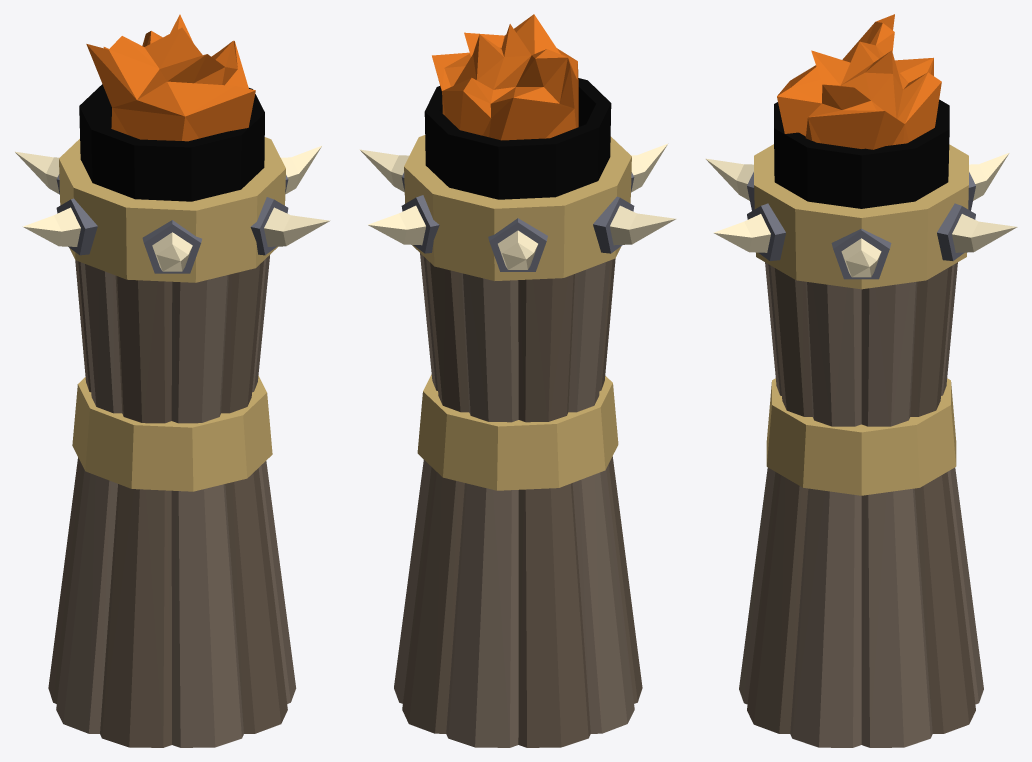
The model's file is _torch_1.fbx.
The picture shows the model from 3 angles, left to right: view 1: azimuth 30°, elevation 25°; view 2: azimuth 150°, elevation 25°; view 3: azimuth 270°, elevation 25°; orthographic projection.
Visible parts, largest first — view 1: torch_1; view 2: torch_1; view 3: torch_1.
Part boxes in pixels (x1,y1,x2,y2): torch_1: (15, 14, 330, 747); torch_1: (359, 14, 676, 747); torch_1: (705, 14, 1017, 747).
Size of the model in its own units: 50.69 by 105 by 45.07.
